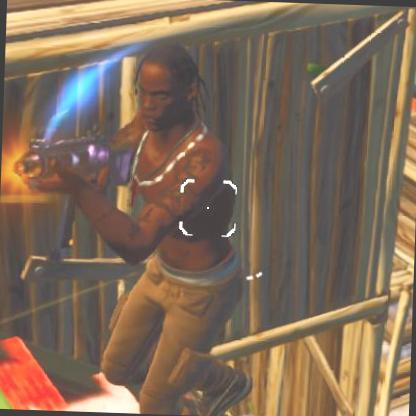person: (117, 52, 264, 400)
